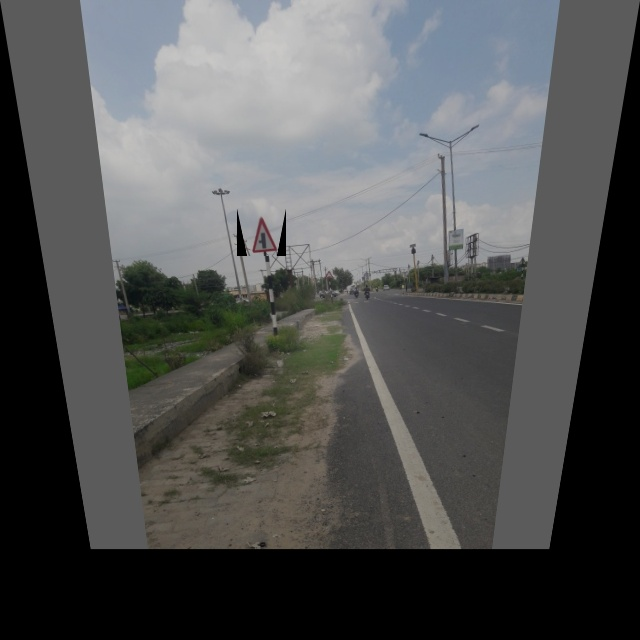Side_Road_Left: (237, 208, 286, 256)
